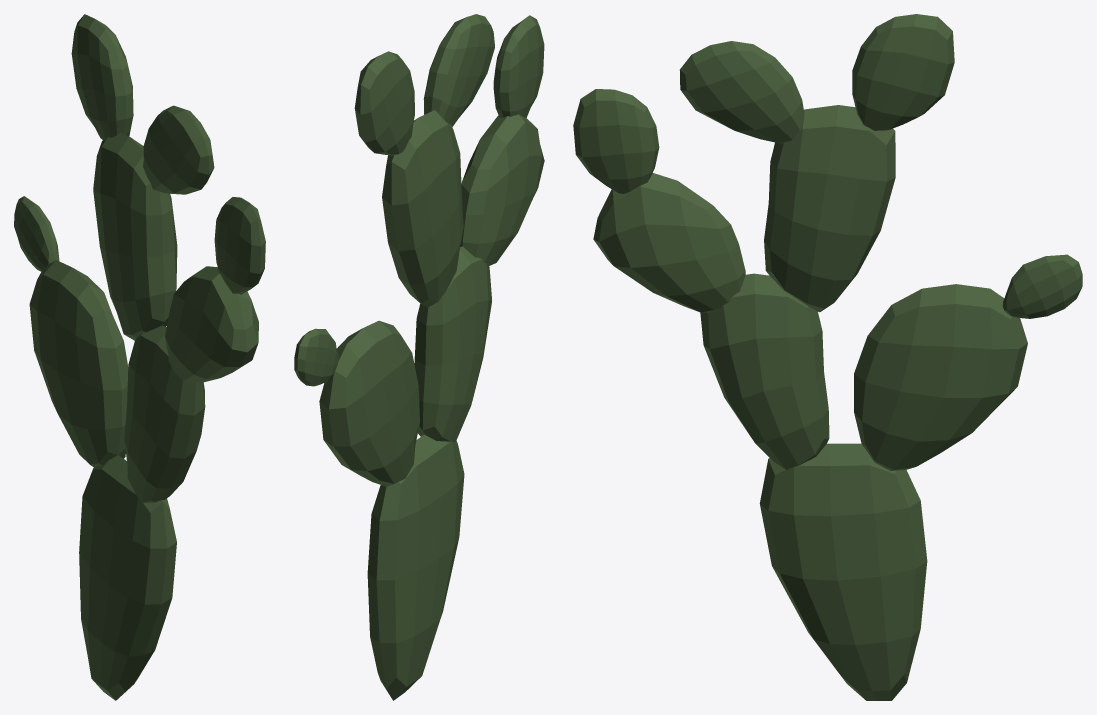
Rendered from Cactus_4-transformed.glb.
3 renders of one model, left to right at view 1: azimuth 30°, elevation 25°; view 2: azimuth 150°, elevation 25°; view 3: azimuth 270°, elevation 25°, orthographic. The views are drawn at different scales.
Visible parts, largest first — view 1: Cactus_4; view 2: Cactus_4; view 3: Cactus_4.
Boxes of the visible parts, box(x1,y1,x2,y2) form: Cactus_4: box(14, 14, 265, 700); Cactus_4: box(294, 14, 544, 700); Cactus_4: box(573, 14, 1082, 700).
Size of the model in its own units: 0.11 by 1.37 by 0.919.
